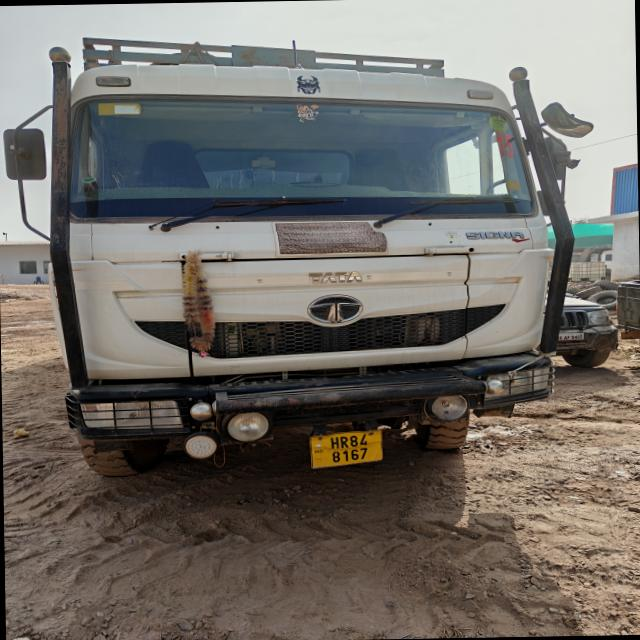license_plate: (311, 430, 383, 468), (559, 333, 584, 341)
